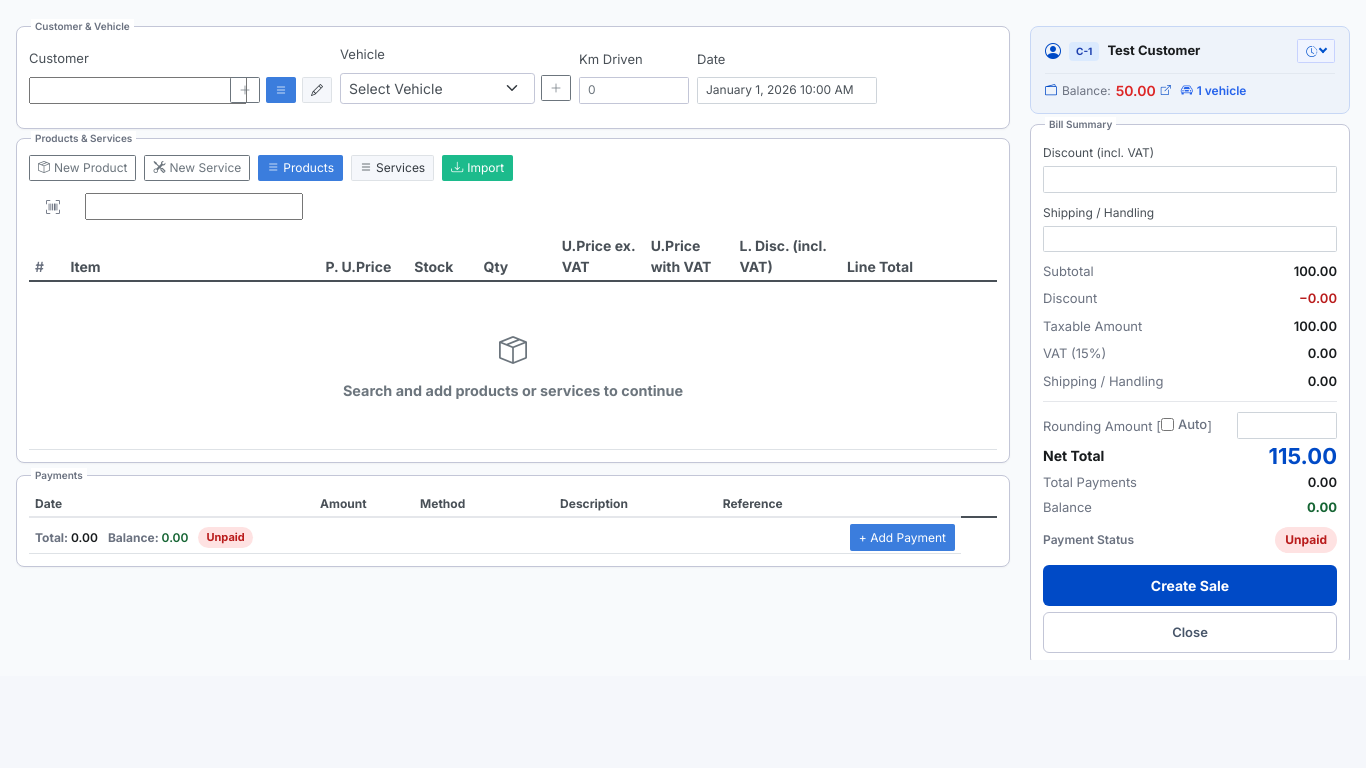
Test: Vehicle list modal — Issue 3 › Edit button closes the vehicle list modal
Click the button "1 vehicle": {"x": 1214, "y": 91} left=1181, top=82, right=1246, bottom=100
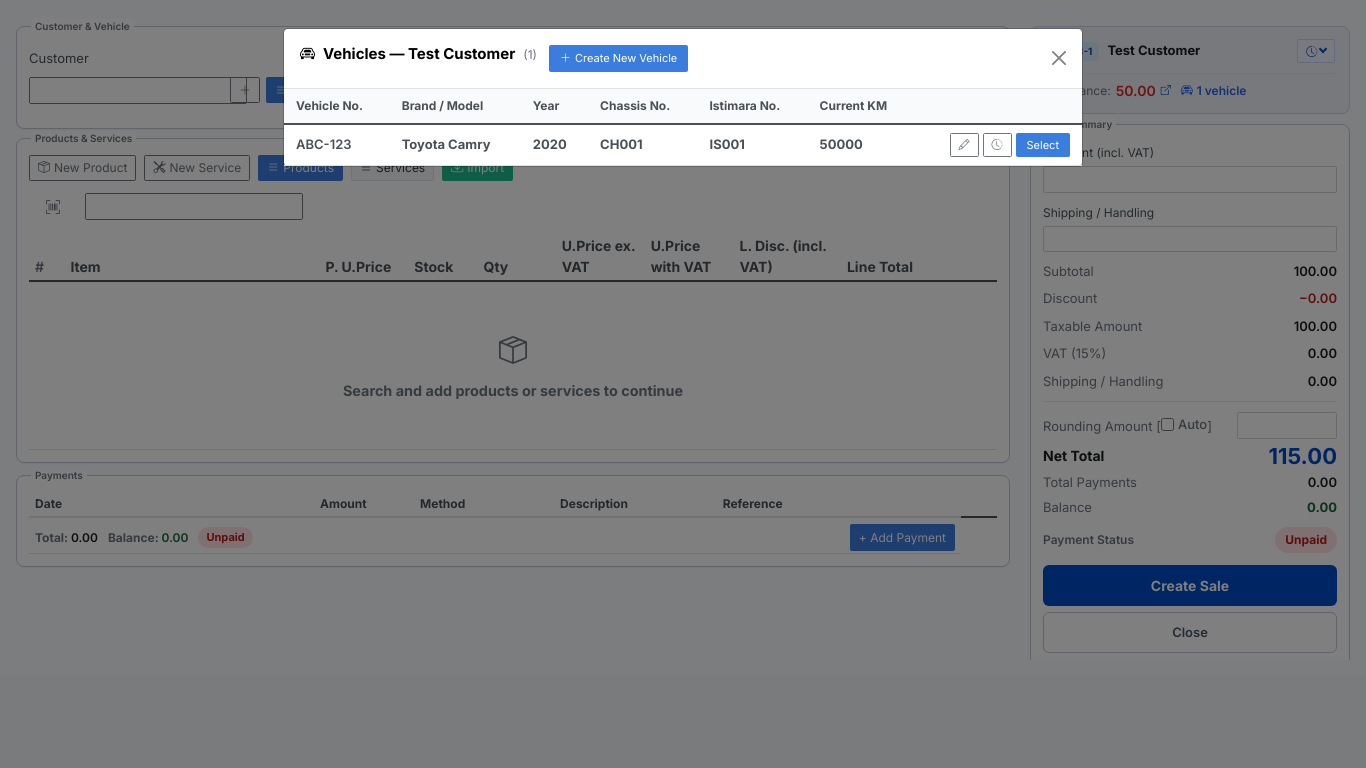
Result: the button "Create New Vehicle" is shown at left=549, top=45, right=688, bottom=72
Click the button titled "Edit vehicle": {"x": 964, "y": 145} left=950, top=132, right=979, bottom=157
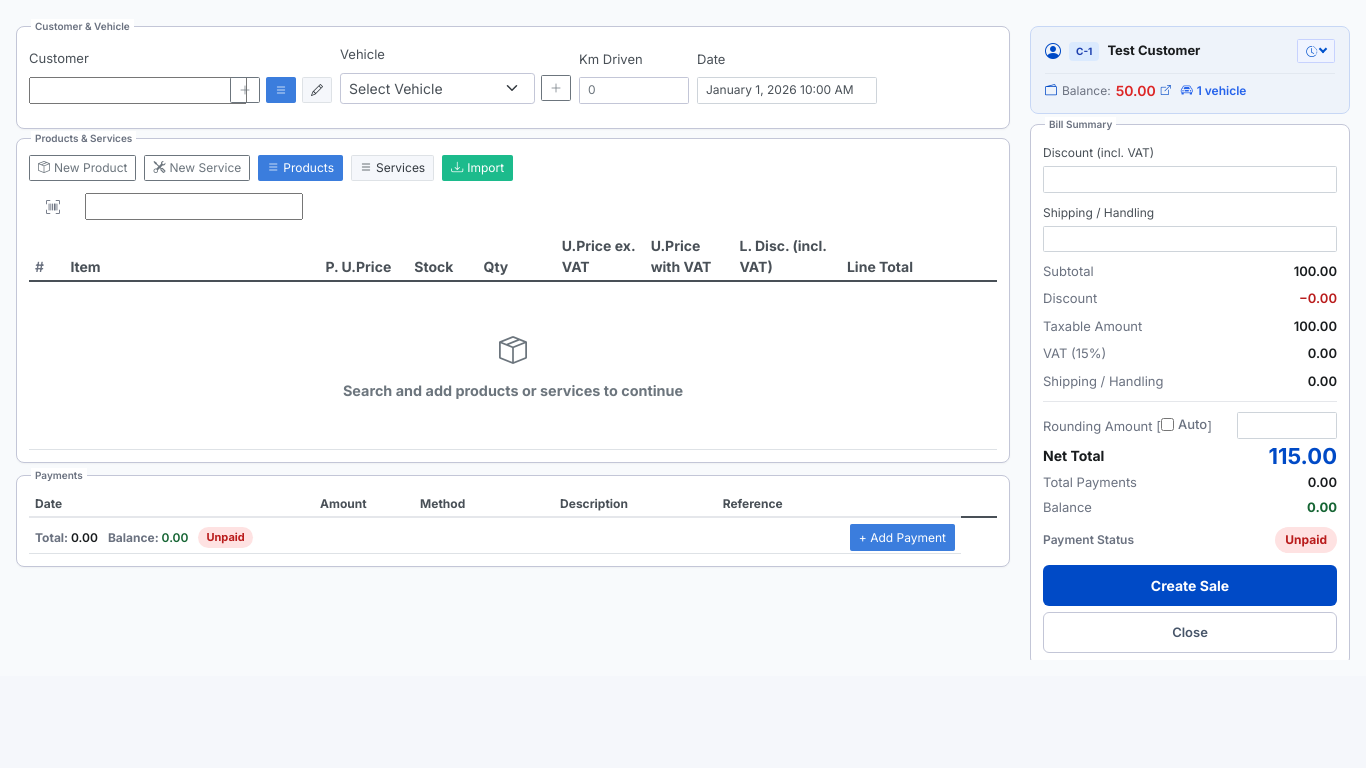
Result: the button "Create New Vehicle" is gone
